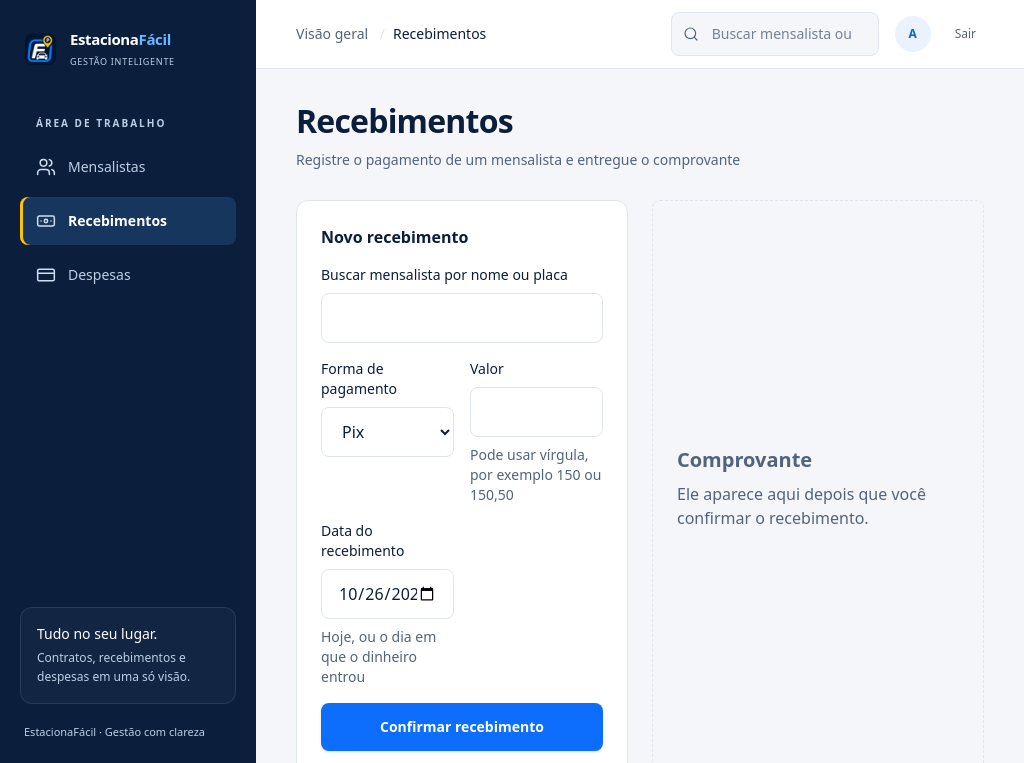
aba Recebimentos › sem ?contrato= o mensalista é escolhido pela busca, e o valor vem do contrato
This screenshot has width=1024, height=763.
Type "qrs7t81" into the search field labelled "Buscar mensalista por nome ou placa" at (462, 318), box x1=321 y1=293 x2=603 y2=343
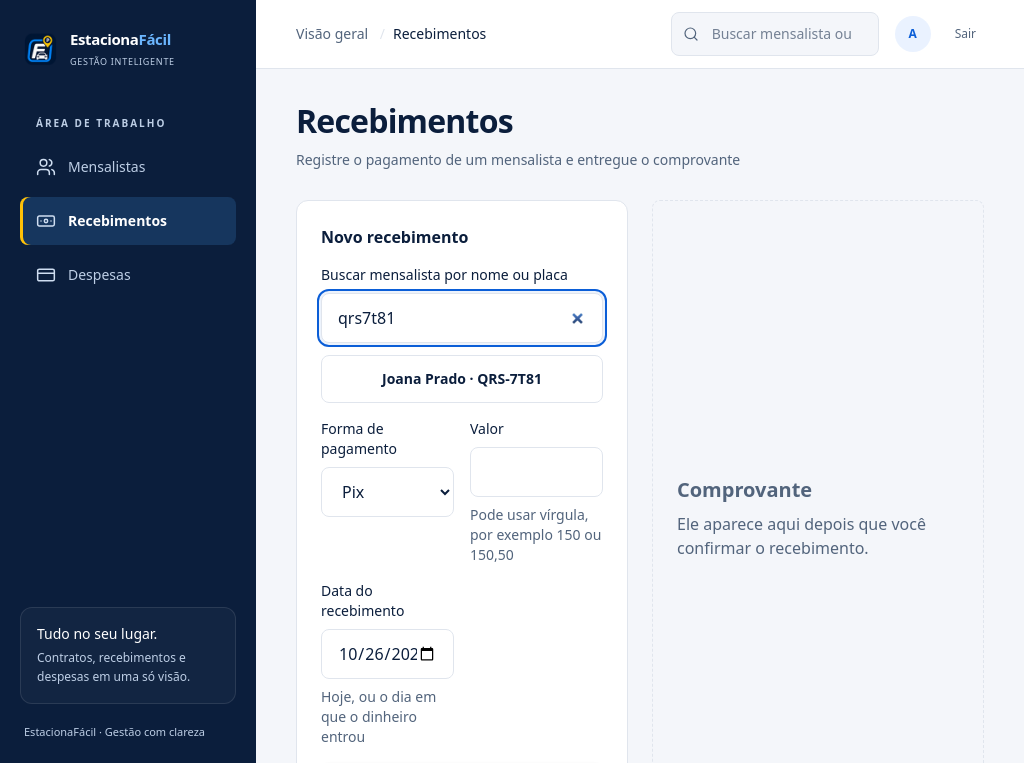
Click the button "Joana Prado · QRS-7T81" at (462, 379), box x1=321 y1=355 x2=603 y2=403
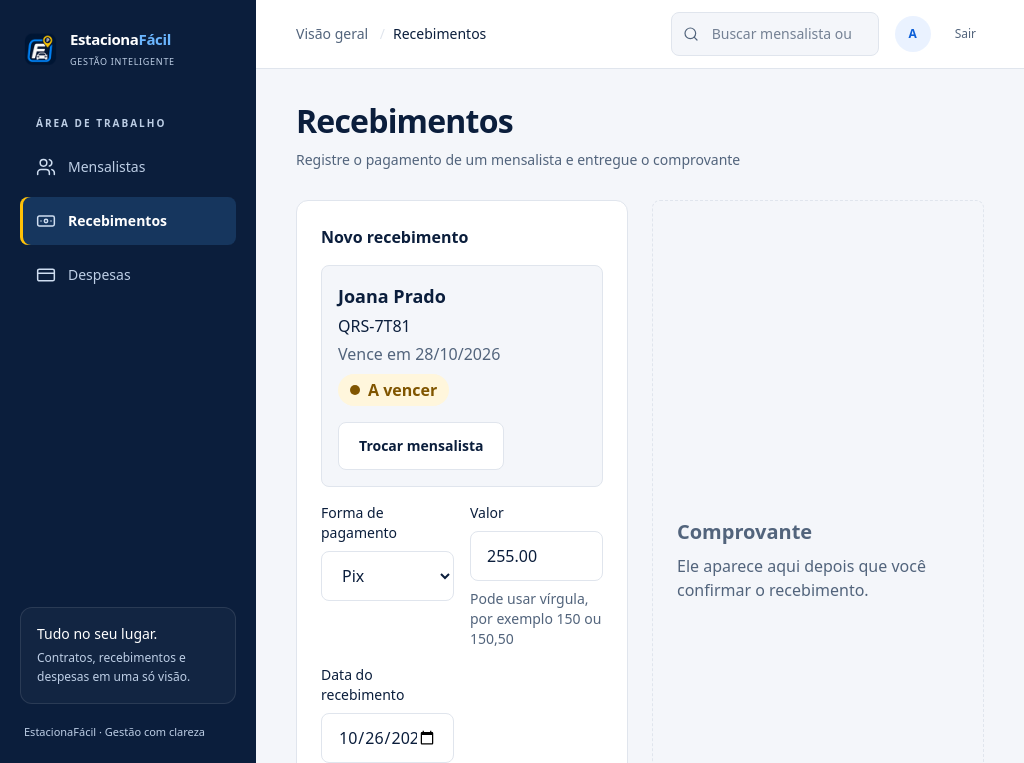
Now the element named "Mensalista escolhido" shows "Joana Prado", box x1=338 y1=284 x2=446 y2=308
Now the field labelled "Valor" holds "255.00", box x1=470 y1=531 x2=603 y2=581
